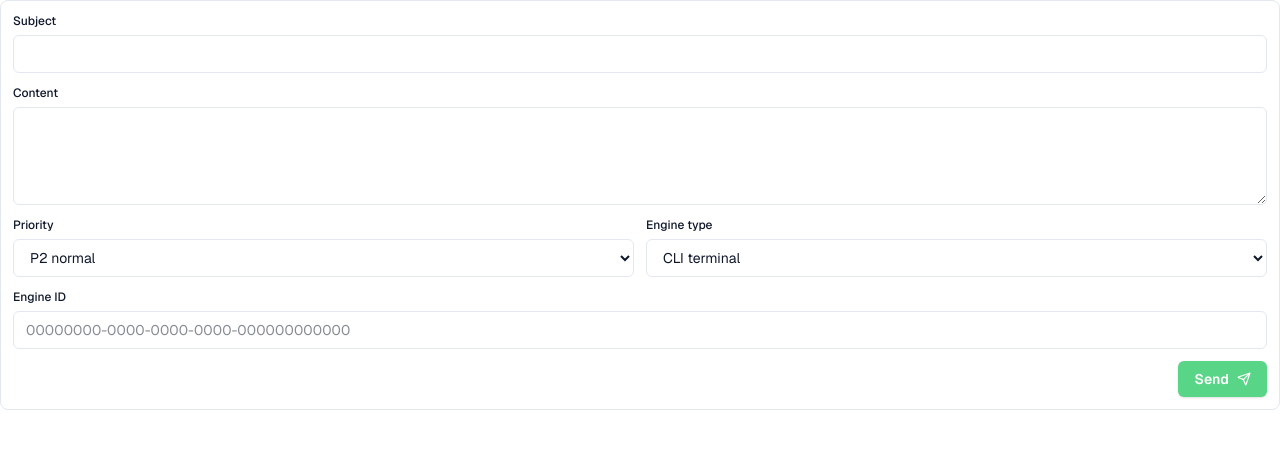
Test: MessageComposer › shows a validation error when content is empty on submit
Type "Hello" into the field labelled "Subject" at (640, 54), box [13,35,1267,73]
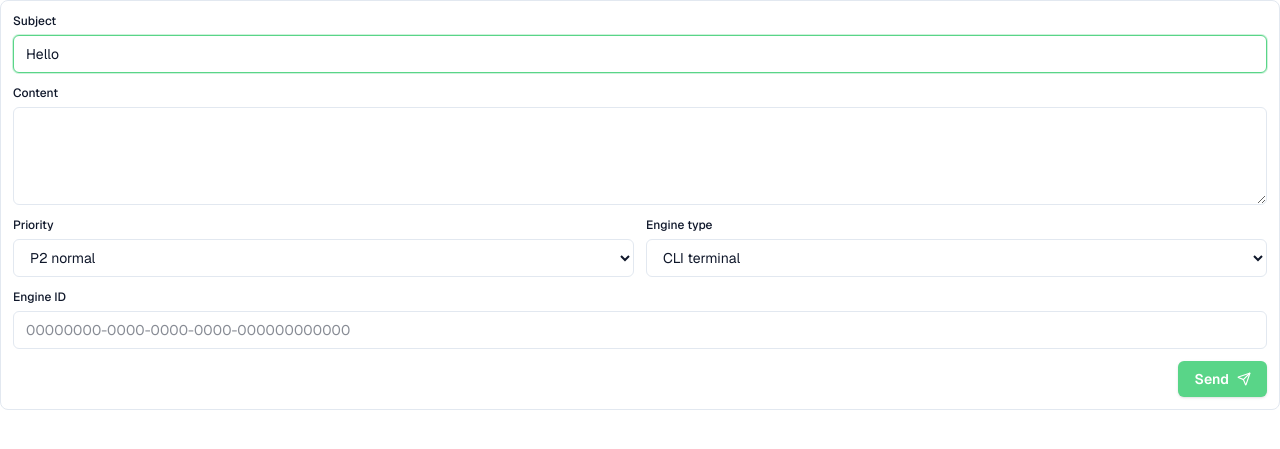
Type "66666666-6666-4666-8666-666666666666" into the field labelled "Engine ID" at (640, 330), box [13,311,1267,349]
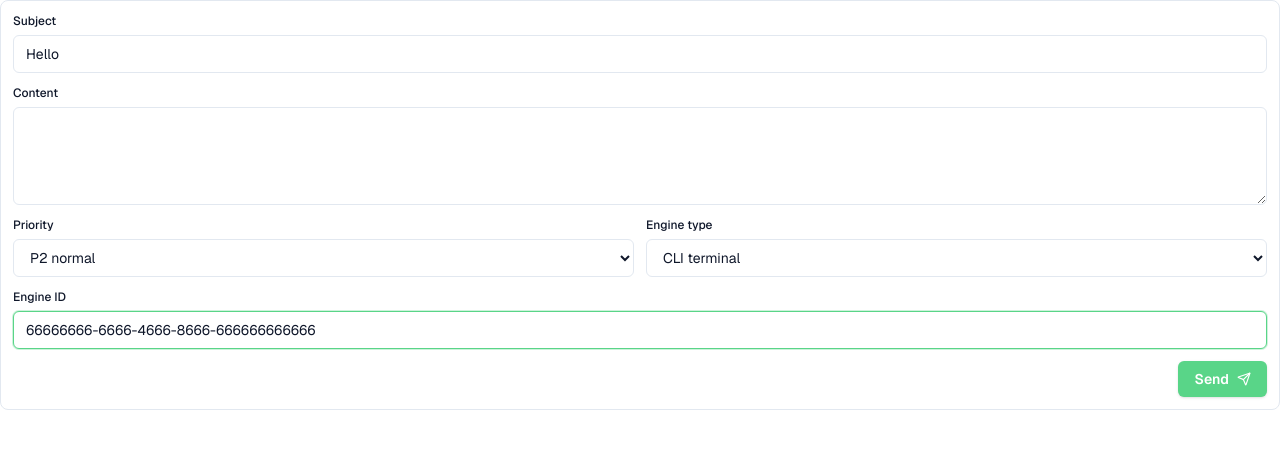
Click the button "Send" at (1223, 379), box [1178,361,1267,397]
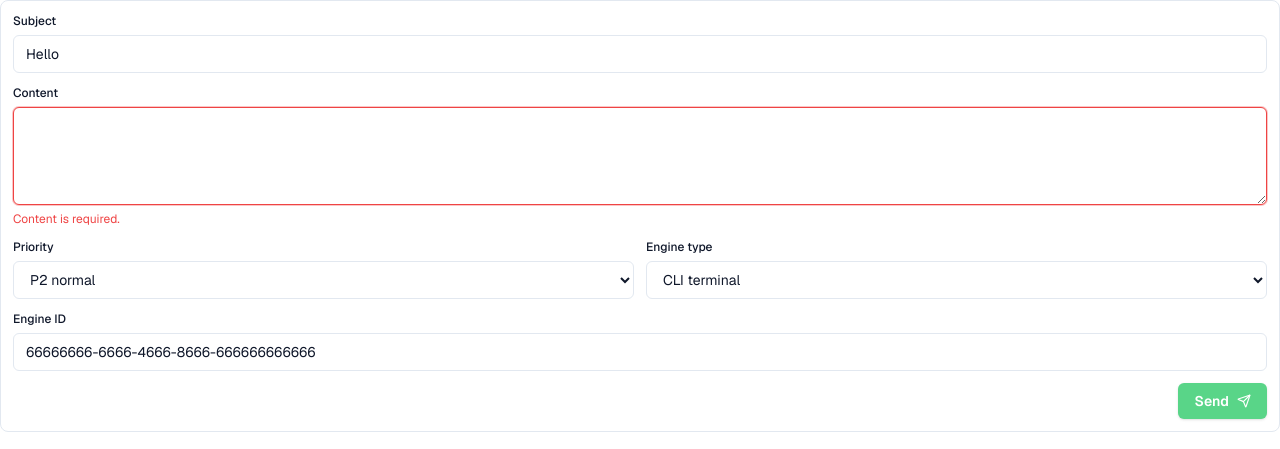
Expected: the text "Content is required." is shown, [13,211,120,227]
